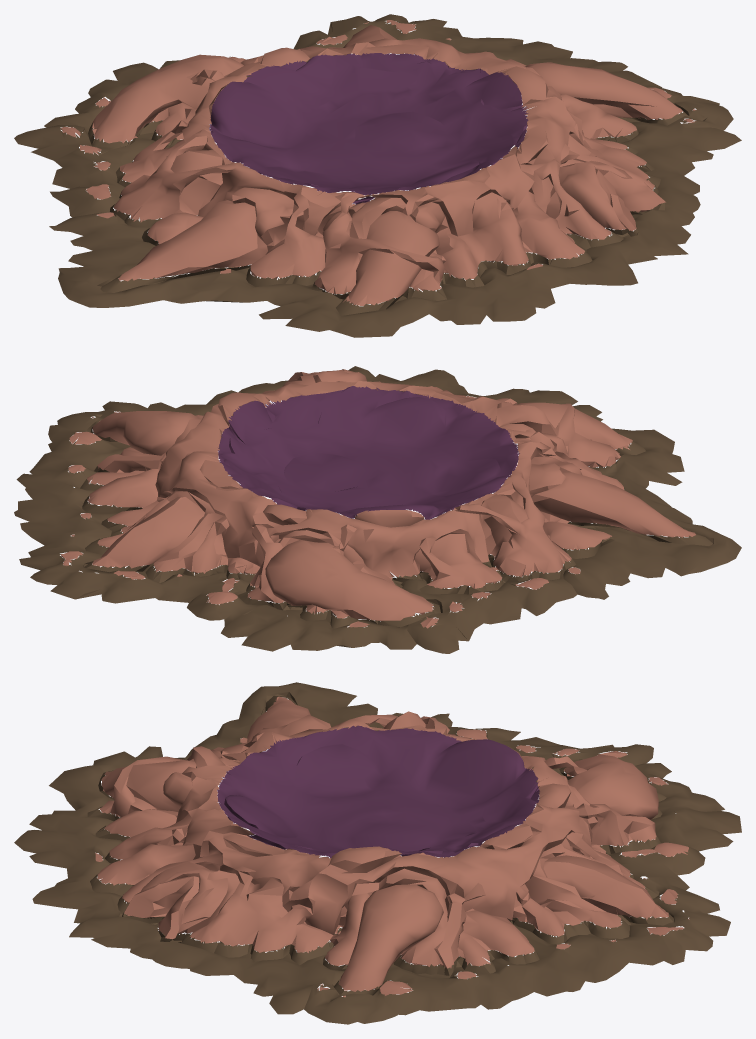
Rendered from biter-spawner-corpse.glb.
3 views of the same model, one above another, from view 1: azimuth 30°, elevation 25°; view 2: azimuth 150°, elevation 25°; view 3: azimuth 270°, elevation 25° (orthographic). The views are drawn at different scales.
Visible parts, largest first — view 1: body; view 2: body; view 3: body.
Boxes of the visible parts, left/top/right/bottom form: body: left=14, top=14, right=741, bottom=337; body: left=14, top=366, right=741, bottom=653; body: left=14, top=682, right=741, bottom=1024.
Bounding box in the file's own units: 6.63 × 0.7243 × 6.
